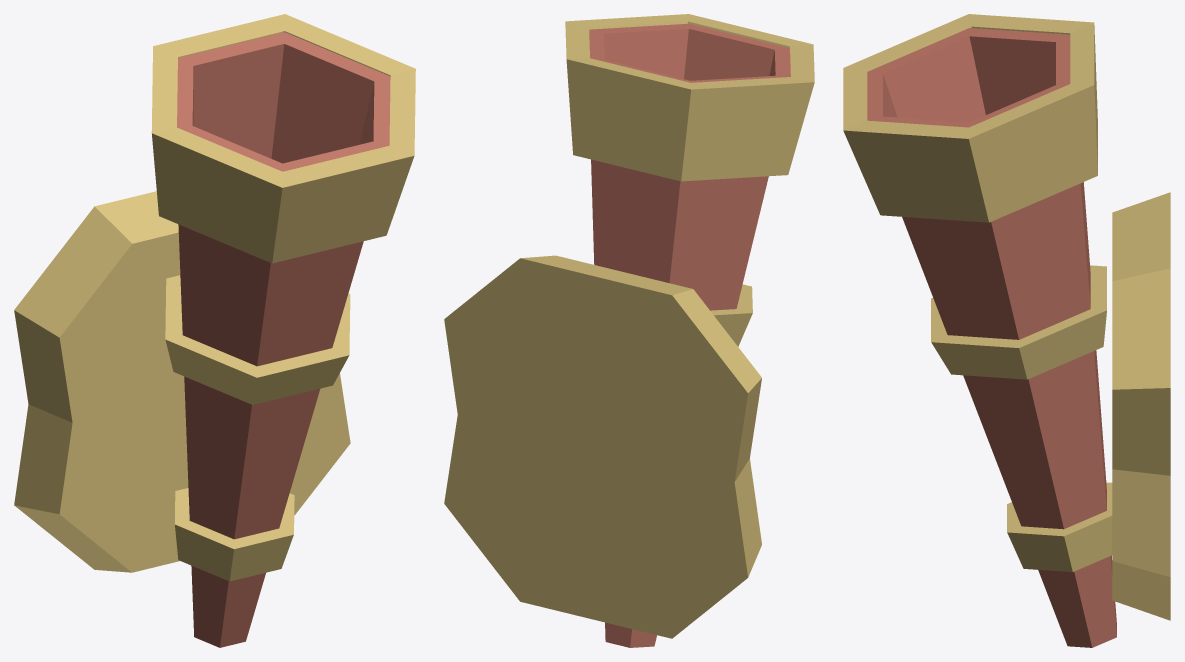
File: SM_Torch.fbx
3 renders of one model, left to right at view 1: azimuth 30°, elevation 25°; view 2: azimuth 150°, elevation 25°; view 3: azimuth 270°, elevation 25°, orthographic. The views are drawn at different scales.
Visible parts, largest first — view 1: Torch; view 2: Torch; view 3: Torch.
Boxes of the visible parts, left/top/right/bottom form: Torch: left=14, top=14, right=415, bottom=647; Torch: left=444, top=14, right=814, bottom=647; Torch: left=843, top=14, right=1170, bottom=647.
Size of the model in its own units: 17.45 by 31.34 by 15.86.
